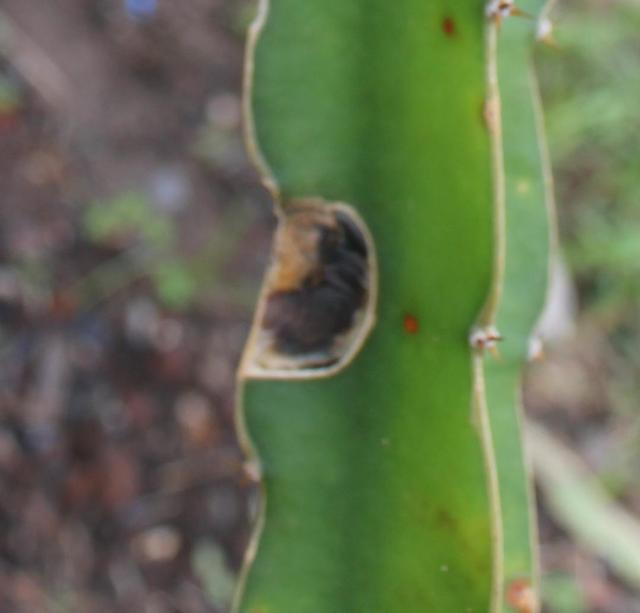stemcanker: (235, 175, 387, 392)
